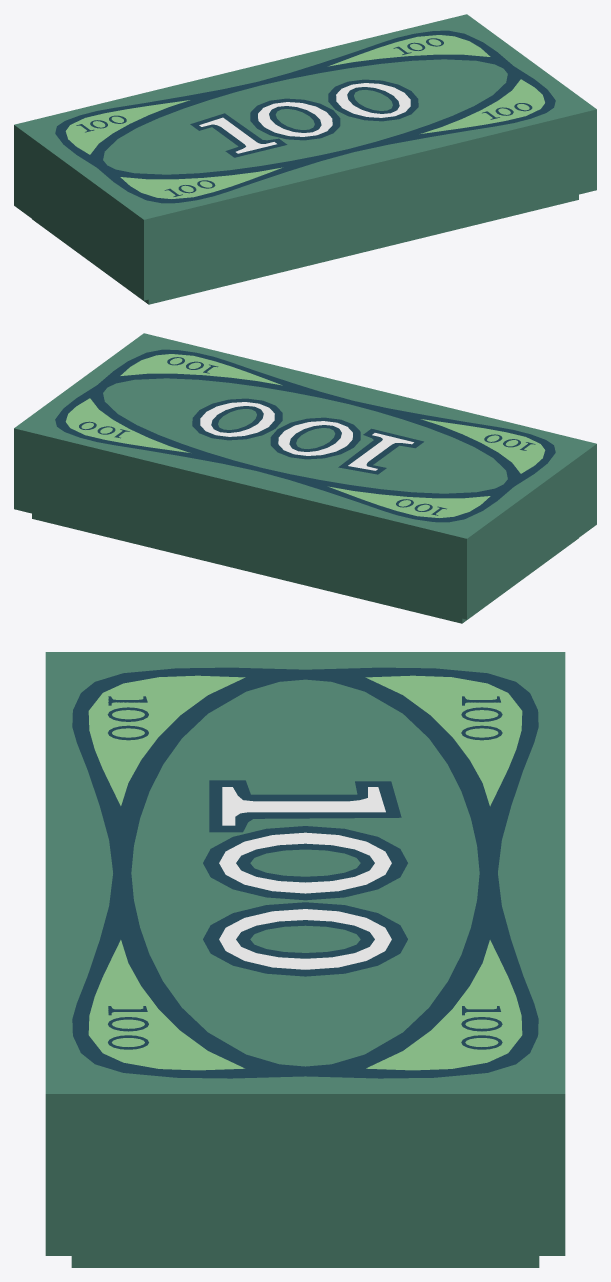
Rendered from money_brick.glb.
3 renders of one model, top to bottom at view 1: azimuth 30°, elevation 25°; view 2: azimuth 150°, elevation 25°; view 3: azimuth 270°, elevation 25°, orthographic. The views are drawn at different scales.
Parts seen in each view (by area): view 1: MONEY_TMP; view 2: MONEY_TMP; view 3: MONEY_TMP.
Boxes of the visible parts, box(x1,y1,x2,y2) form: MONEY_TMP: box(14, 14, 596, 304); MONEY_TMP: box(14, 333, 596, 623); MONEY_TMP: box(45, 652, 565, 1267).
Bounding box in the file's own units: 0.5129 × 0.1 × 0.2548.
